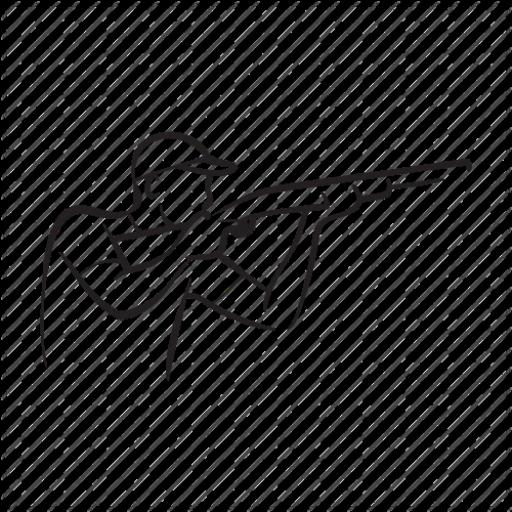shooting: (35, 128, 472, 383)
